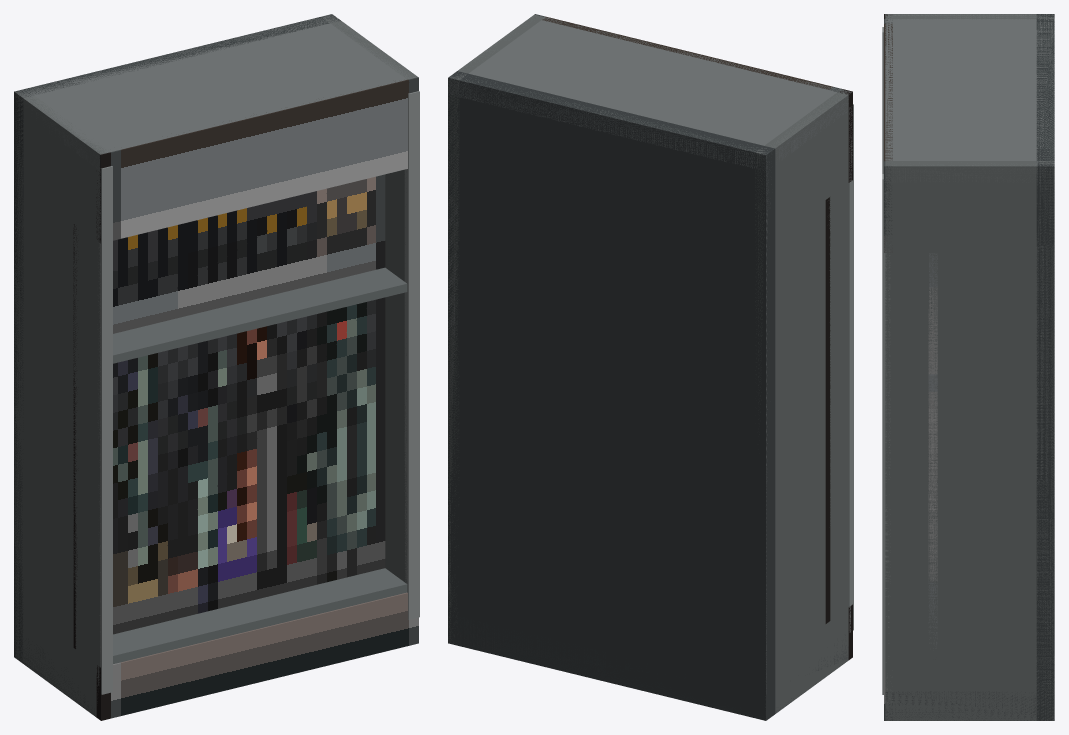
File: CMU3DReduxAU14AircrewWeaponsVendor.glb
3 views of the same model, side by side, from view 1: azimuth 30°, elevation 25°; view 2: azimuth 150°, elevation 25°; view 3: azimuth 270°, elevation 25° (orthographic).
Visible parts, largest first — view 1: source cabinet panel 2, left casing, source cabinet panel 0, closed roof, source cabinet panel 1, source cabinet panel 3, front upright (×2), right casing, shelf tray 2, shelf tray 1, closed cabinet back; view 2: closed cabinet back, left casing, closed roof, right casing, front upright, source cabinet panel 0, source cabinet panel 2, closed plinth and underside, source cabinet panel 1; view 3: right casing, closed roof, closed cabinet back, source cabinet panel 2, front upright, closed plinth and underside, source cabinet panel 0, source cabinet panel 1, left casing.
Boxes of the visible parts, <box> form: source cabinet panel 2: <box>73,297,385,648</box>; left casing: <box>14,90,108,717</box>; source cabinet panel 0: <box>96,77,418,243</box>; closed roof: <box>16,14,417,170</box>; source cabinet panel 1: <box>73,174,385,347</box>; source cabinet panel 3: <box>96,592,418,720</box>; front upright (×2): <box>97,91,419,694</box>; right casing: <box>322,14,417,582</box>; shelf tray 2: <box>113,568,407,664</box>; shelf tray 1: <box>113,267,407,363</box>; closed cabinet back: <box>14,14,340,663</box>; closed cabinet back: <box>448,71,775,720</box>; left casing: <box>755,89,851,719</box>; closed roof: <box>448,15,849,171</box>; right casing: <box>448,14,545,643</box>; front upright: <box>849,104,853,632</box>; source cabinet panel 0: <box>532,14,852,182</box>; source cabinet panel 2: <box>825,321,830,623</box>; closed plinth and underside: <box>448,617,848,720</box>; source cabinet panel 1: <box>825,197,830,323</box>; right casing: <box>885,161,1054,720</box>; closed roof: <box>885,14,1054,182</box>; closed cabinet back: <box>1036,14,1054,720</box>; source cabinet panel 2: <box>928,374,937,659</box>; front upright: <box>882,174,890,694</box>; closed plinth and underside: <box>885,691,1054,720</box>; source cabinet panel 0: <box>884,14,892,252</box>; source cabinet panel 1: <box>928,253,937,374</box>; left casing: <box>885,14,1054,19</box>.
Size of the model in its own units: 1 by 1.7 by 0.478.
Materials: 10 (4 with a texture image).
